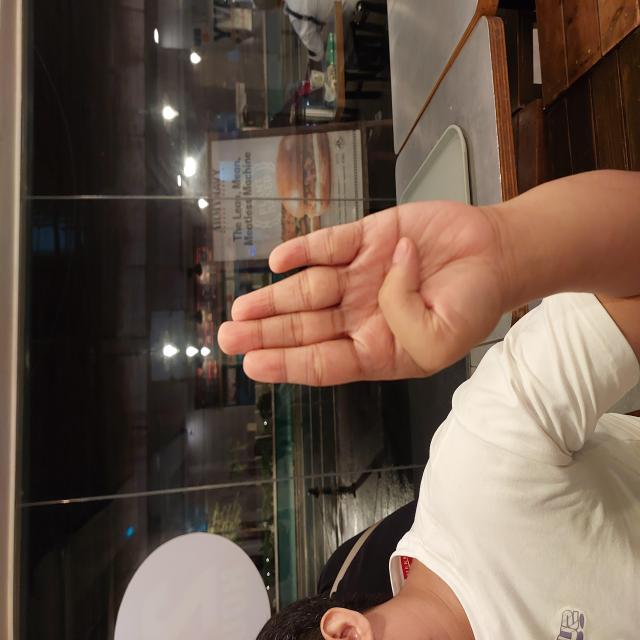B: (252, 216, 442, 507)
